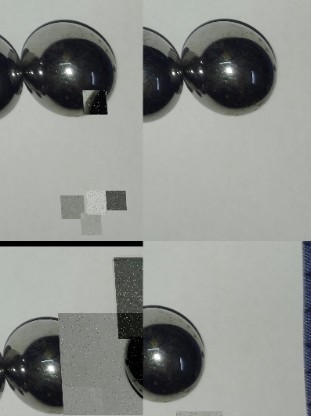ironball: (23, 15, 125, 123), (182, 13, 278, 118), (56, 313, 143, 415), (3, 313, 70, 412), (143, 298, 205, 402), (144, 21, 193, 121), (0, 25, 29, 128), (112, 257, 143, 339), (79, 90, 104, 114), (56, 195, 81, 218), (82, 190, 102, 215), (76, 213, 97, 235), (101, 190, 122, 210)
